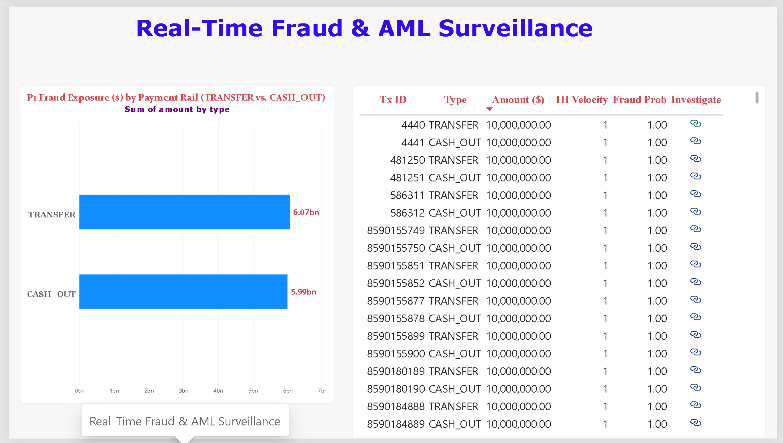

This screenshot's page, from the dashboard's own definition file:
{"tool":"powerbi","page":{"name":"Real-Time Fraud & AML Surveillance","canvas":[1920,1080],"ordinal":1},"visuals":[{"type":"clusteredBarChart","title":"P1 Fraud Exposure ($) by Payment Rail (TRANSFER vs. CASH_OUT)","fields":{"Category":["gold_dim_channel.type"],"Y":["Sum(gold_fact_fraud_scored.amount)"]},"box":[28.7,198.7,785.1,794.7],"z":0},{"type":"tableEx","fields":{"Values":["gold_fact_fraud_scored.tx_id","gold_dim_channel.type","gold_fact_fraud_scored.amount","gold_fact_fraud_scored.orig_tx_count_1h","gold_fact_fraud_scored.ml_fraud_probability","gold_fact_fraud_scored.Investigate in Copilot URL"]},"box":[856.9,198.7,1034.1,880.9],"z":1},{"type":"textbox","box":[28.6,16.9,1720.8,113],"z":2}]}

Visuals, with their boxes on the page's 1920x1080 design canvas (x1, y1, x2, y2). These are canvas units, not pixel positions in the 783x443 screenshot, which may show the page scaled, cropped or inside an application window:
"P1 Fraud Exposure ($) by Payment Rail (TRANSFER vs. CASH_OUT)" clusteredBarChart: Rect(29, 199, 814, 993)
tableEx - gold_fact_fraud_scored.tx_id x gold_dim_channel.type: Rect(857, 199, 1891, 1080)
textbox: Rect(29, 17, 1749, 130)
